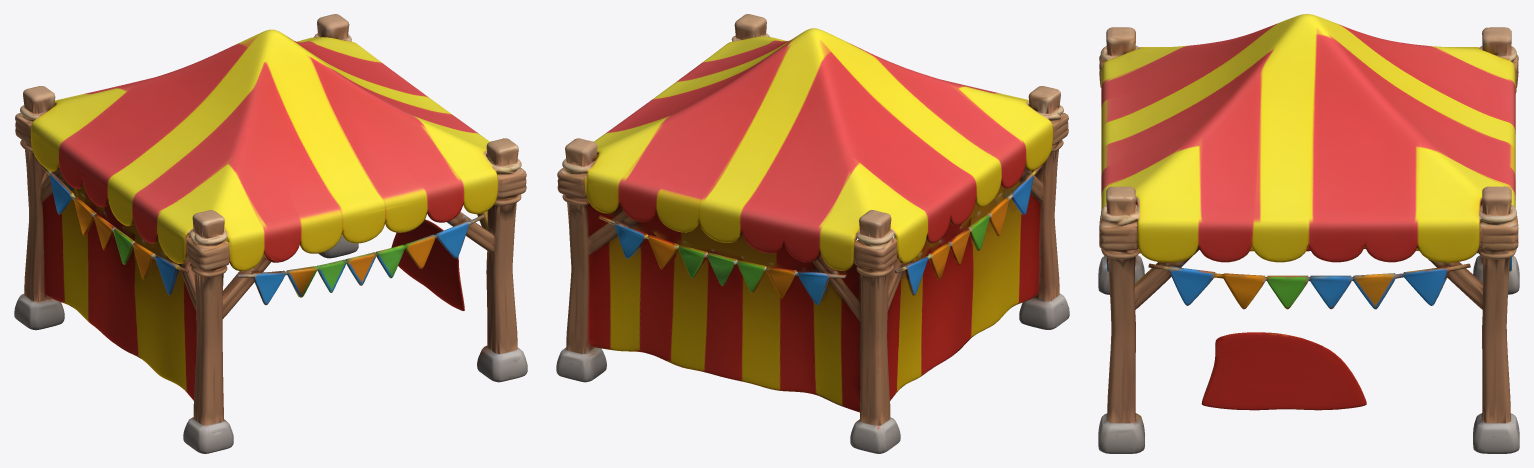
The model's file is Toldo.fbx.
The picture shows the model from 3 angles, left to right: view 1: azimuth 30°, elevation 25°; view 2: azimuth 150°, elevation 25°; view 3: azimuth 270°, elevation 25°; orthographic projection. The views are drawn at different scales.
Parts seen in each view (by area): view 1: Mesh_0; view 2: Mesh_0; view 3: Mesh_0.
Part boxes in pixels (x1,y1,x2,y2): Mesh_0: [14, 14, 527, 453]; Mesh_0: [556, 14, 1069, 453]; Mesh_0: [1098, 14, 1519, 453].
Bounding box in the file's own units: 72.48 × 66.99 × 72.45.
Materials: 1 (1 with a texture image).
